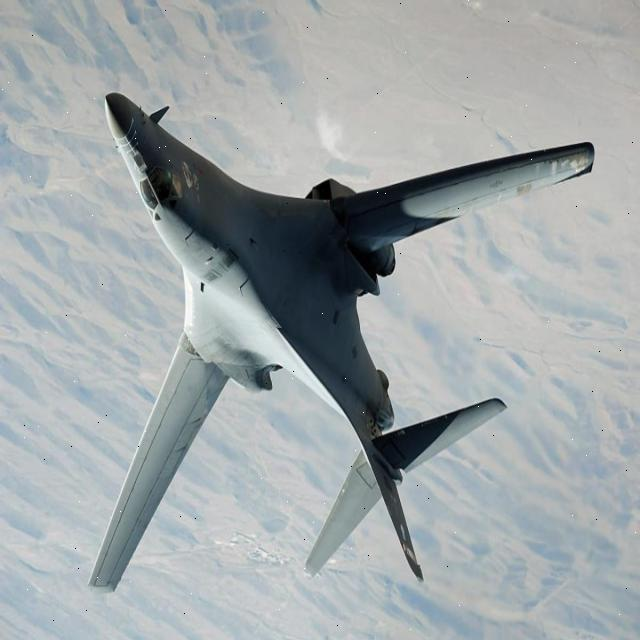B1: (59, 60, 606, 624)
